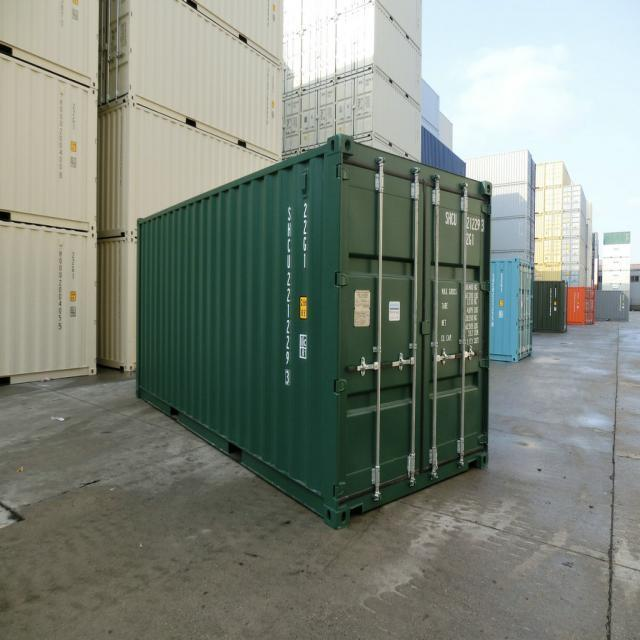container_number_h: (435, 207, 492, 250)
container_number_v: (271, 197, 302, 401)
